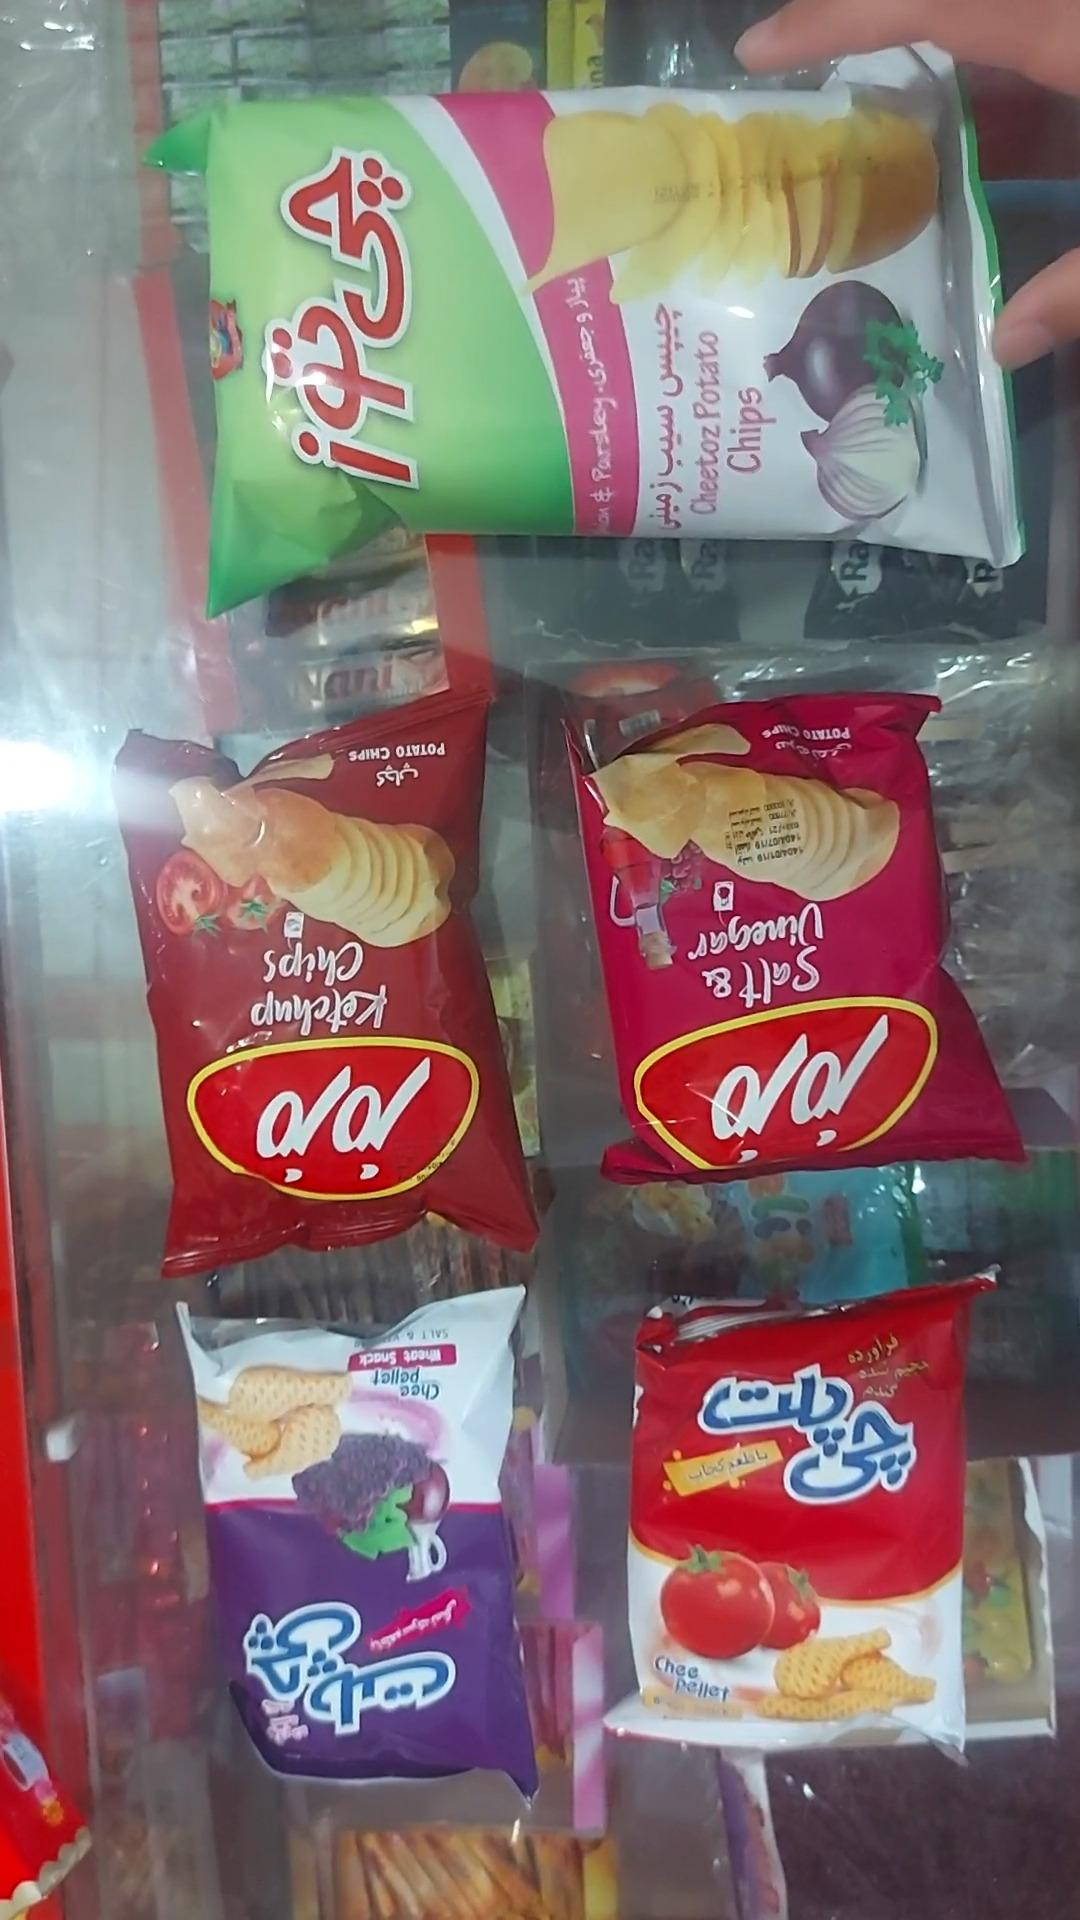Chee pellet ketchup: (600, 1273, 997, 1770)
Chee pellet vinegar: (178, 1280, 542, 1809)
Cheetoz onion and parsley chips: (140, 40, 1030, 613)
Maz Maz ketchup chips: (108, 683, 543, 1273)
Maz Maz vinegar chips: (566, 691, 1029, 1187)
